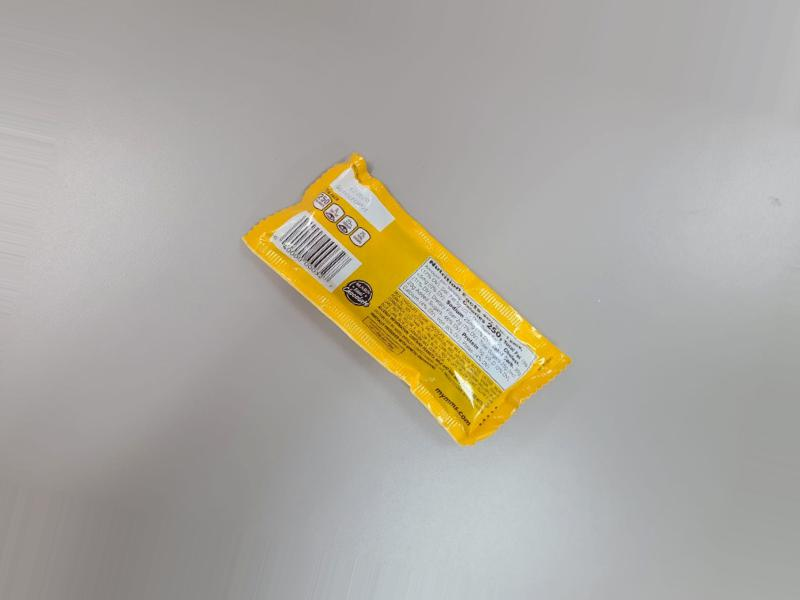m&m: (245, 129, 549, 448)
